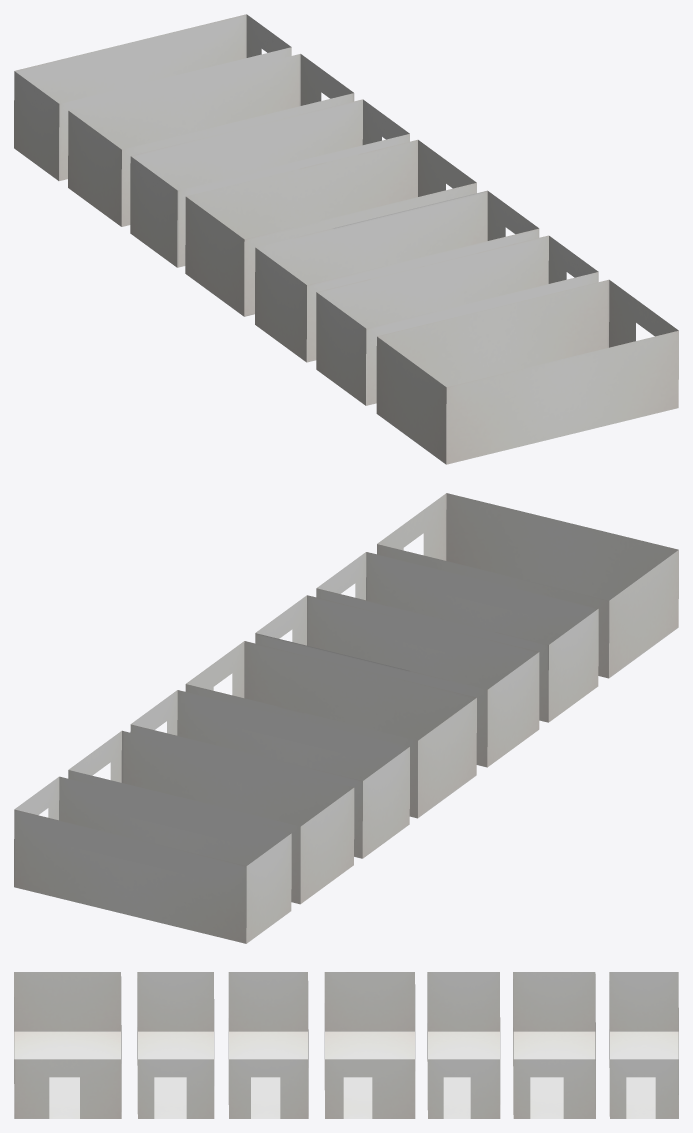
Rendered from rooma.glb.
3 views of the same model, one above another, from view 1: azimuth 30°, elevation 25°; view 2: azimuth 150°, elevation 25°; view 3: azimuth 270°, elevation 25° (orthographic). The views are drawn at different scales.
Parts seen in each view (by area): view 1: Plane.007, Plane.004, Plane.002, Plane.005, Plane.006, Plane.003, Plane.001; view 2: Plane.001, Plane.007, Plane.004, Plane.002, Plane.005, Plane.006, Plane.003; view 3: Plane.007, Plane.004, Plane.002, Plane.005, Plane.006, Plane.003, Plane.001.
Part boxes in pixels (x1=…): Plane.007: x1=376, y1=279, x2=678, y2=464; Plane.004: x1=185, y1=139, x2=476, y2=316; Plane.002: x1=68, y1=54, x2=354, y2=226; Plane.005: x1=255, y1=190, x2=539, y2=362; Plane.006: x1=316, y1=235, x2=598, y2=405; Plane.003: x1=130, y1=99, x2=409, y2=267; Plane.001: x1=14, y1=14, x2=291, y2=180; Plane.001: x1=14, y1=776, x2=291, y2=943; Plane.007: x1=377, y1=493, x2=678, y2=678; Plane.004: x1=185, y1=641, x2=476, y2=818; Plane.002: x1=68, y1=730, x2=354, y2=904; Plane.005: x1=255, y1=595, x2=539, y2=767; Plane.006: x1=316, y1=552, x2=598, y2=722; Plane.003: x1=130, y1=690, x2=409, y2=858; Plane.007: x1=14, y1=972, x2=121, y2=1118; Plane.004: x1=324, y1=972, x2=415, y2=1118; Plane.002: x1=513, y1=972, x2=595, y2=1118; Plane.005: x1=228, y1=972, x2=308, y2=1118; Plane.006: x1=137, y1=972, x2=214, y2=1118; Plane.003: x1=427, y1=972, x2=500, y2=1118; Plane.001: x1=609, y1=972, x2=678, y2=1118.
Size of the model in its own units: 0.9956 by 0.3177 by 3.21.
1 material, 1 textured.
